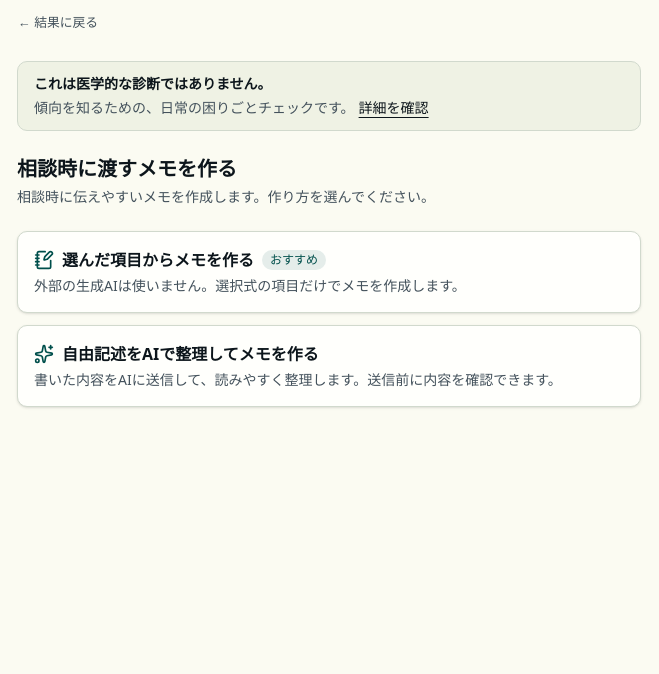
Test: PreparePage › 「選んだ項目からメモを作る」を選ぶと PreparePanel が autoStart 表示される
Click the text "選んだ項目からメモを作る": (180, 260) [34,248,326,272]
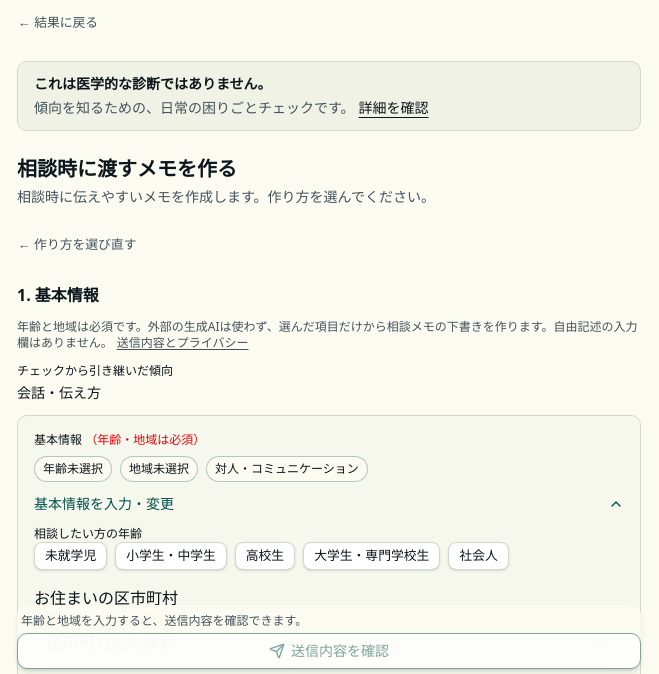
Expected: the dropdown labelled "お住まいの区市町村" is shown, [35,619,623,665]
Expected: the text "会話・伝え方" is shown, [17,383,101,402]
Expected: the button "選んだ項目からメモを作る" is gone
